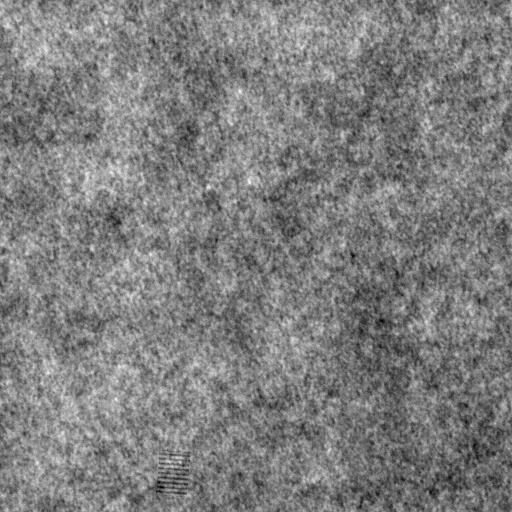impact: (154, 446, 192, 499)
